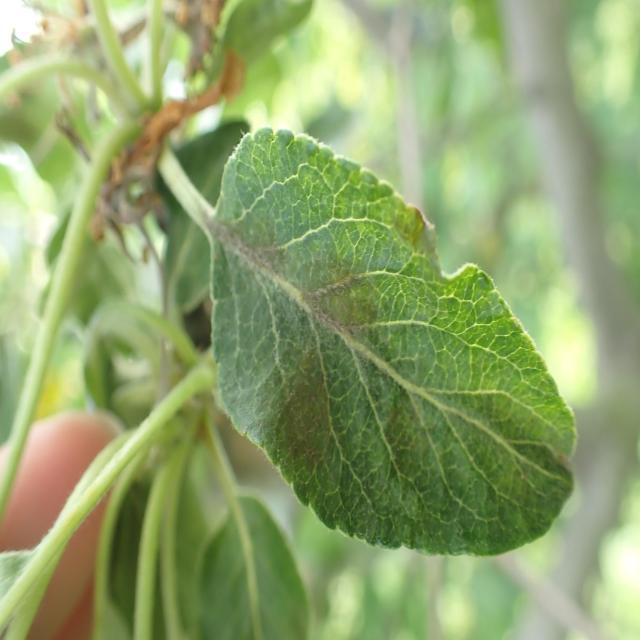scab: (181, 178, 561, 560)
